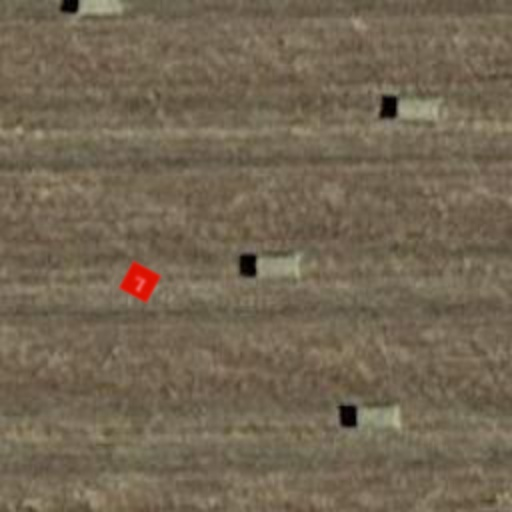rectangle: (118, 260, 162, 304)
